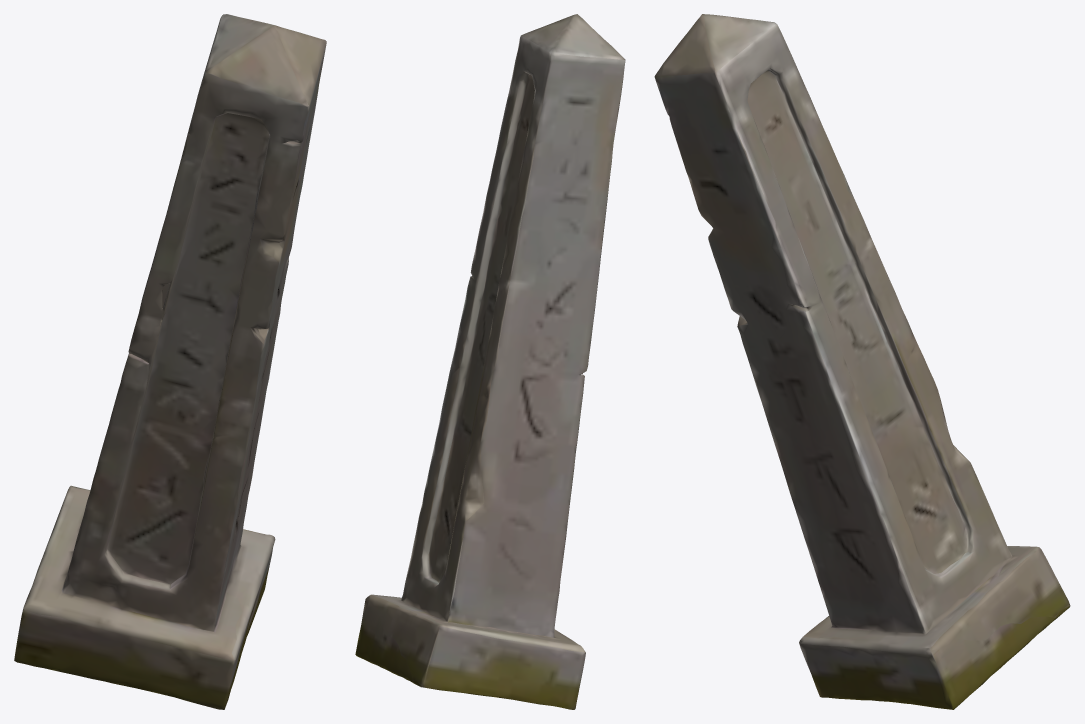
File: monolith.glb
3 views of the same model, side by side, from view 1: azimuth 30°, elevation 25°; view 2: azimuth 150°, elevation 25°; view 3: azimuth 270°, elevation 25° (orthographic). The views are drawn at different scales.
Size of the model in its own units: 0.323 by 0.8781 by 0.4895.
1 material, 1 textured.
